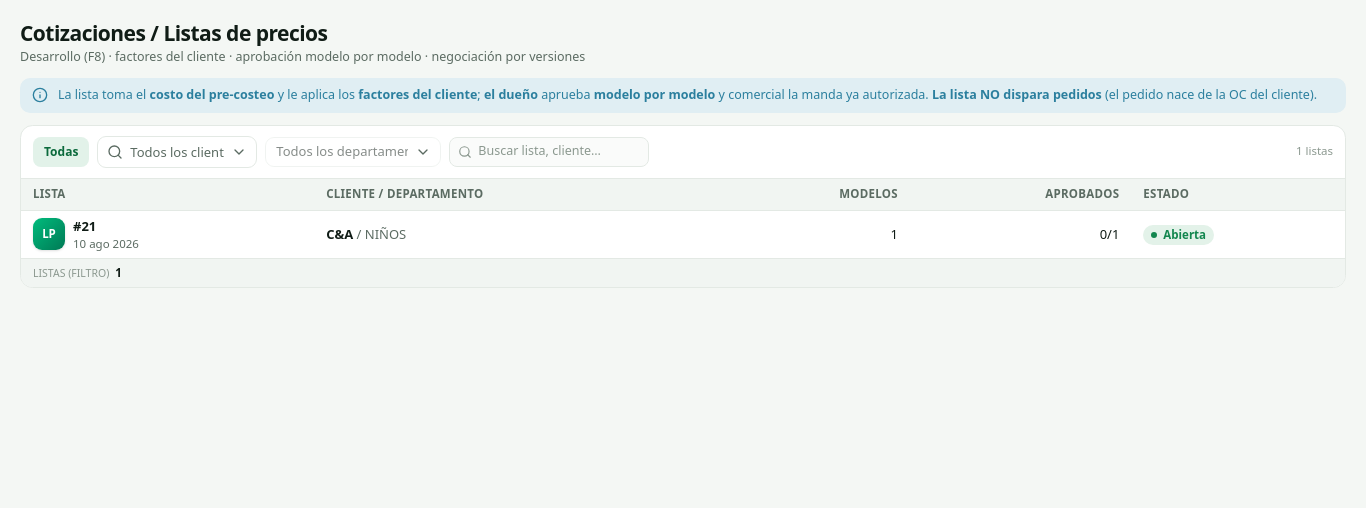
Test: ⭐ ListasPreciosPagina — quitar renglón / borrar lista (V1-E4 punto 4) › sin listas.administrar no se ofrece ni quitar ni borrar
Step 1. Click the row with test id "fila-lista-precios" → (49,234), box x1=21 y1=210 x2=1345 y2=258
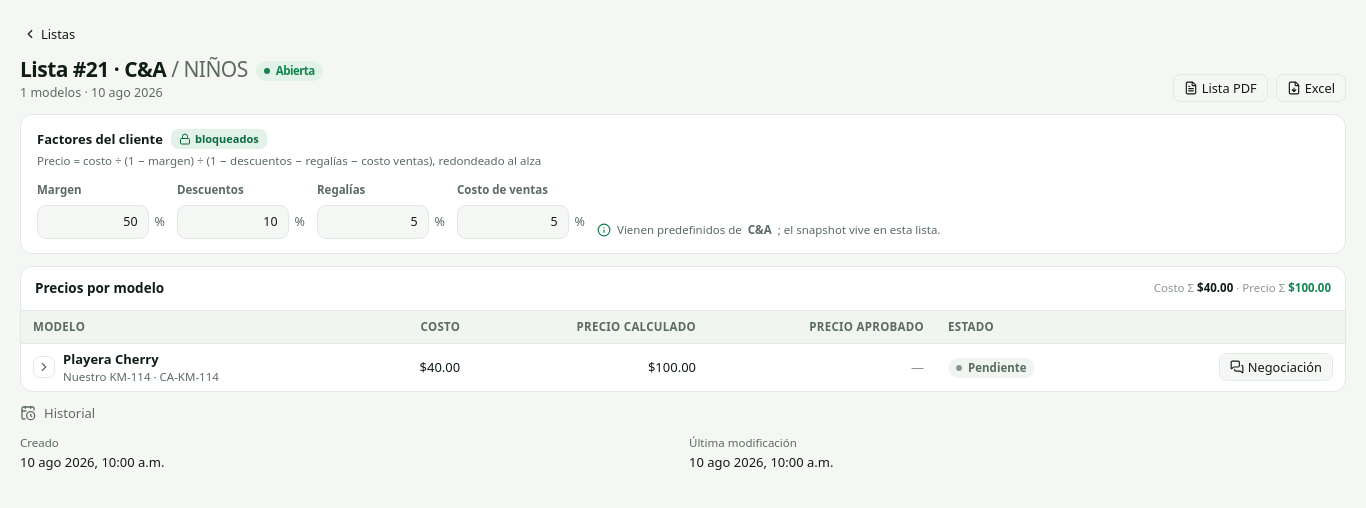
Expected: the element with test id "detalle-lista-precios" is shown
